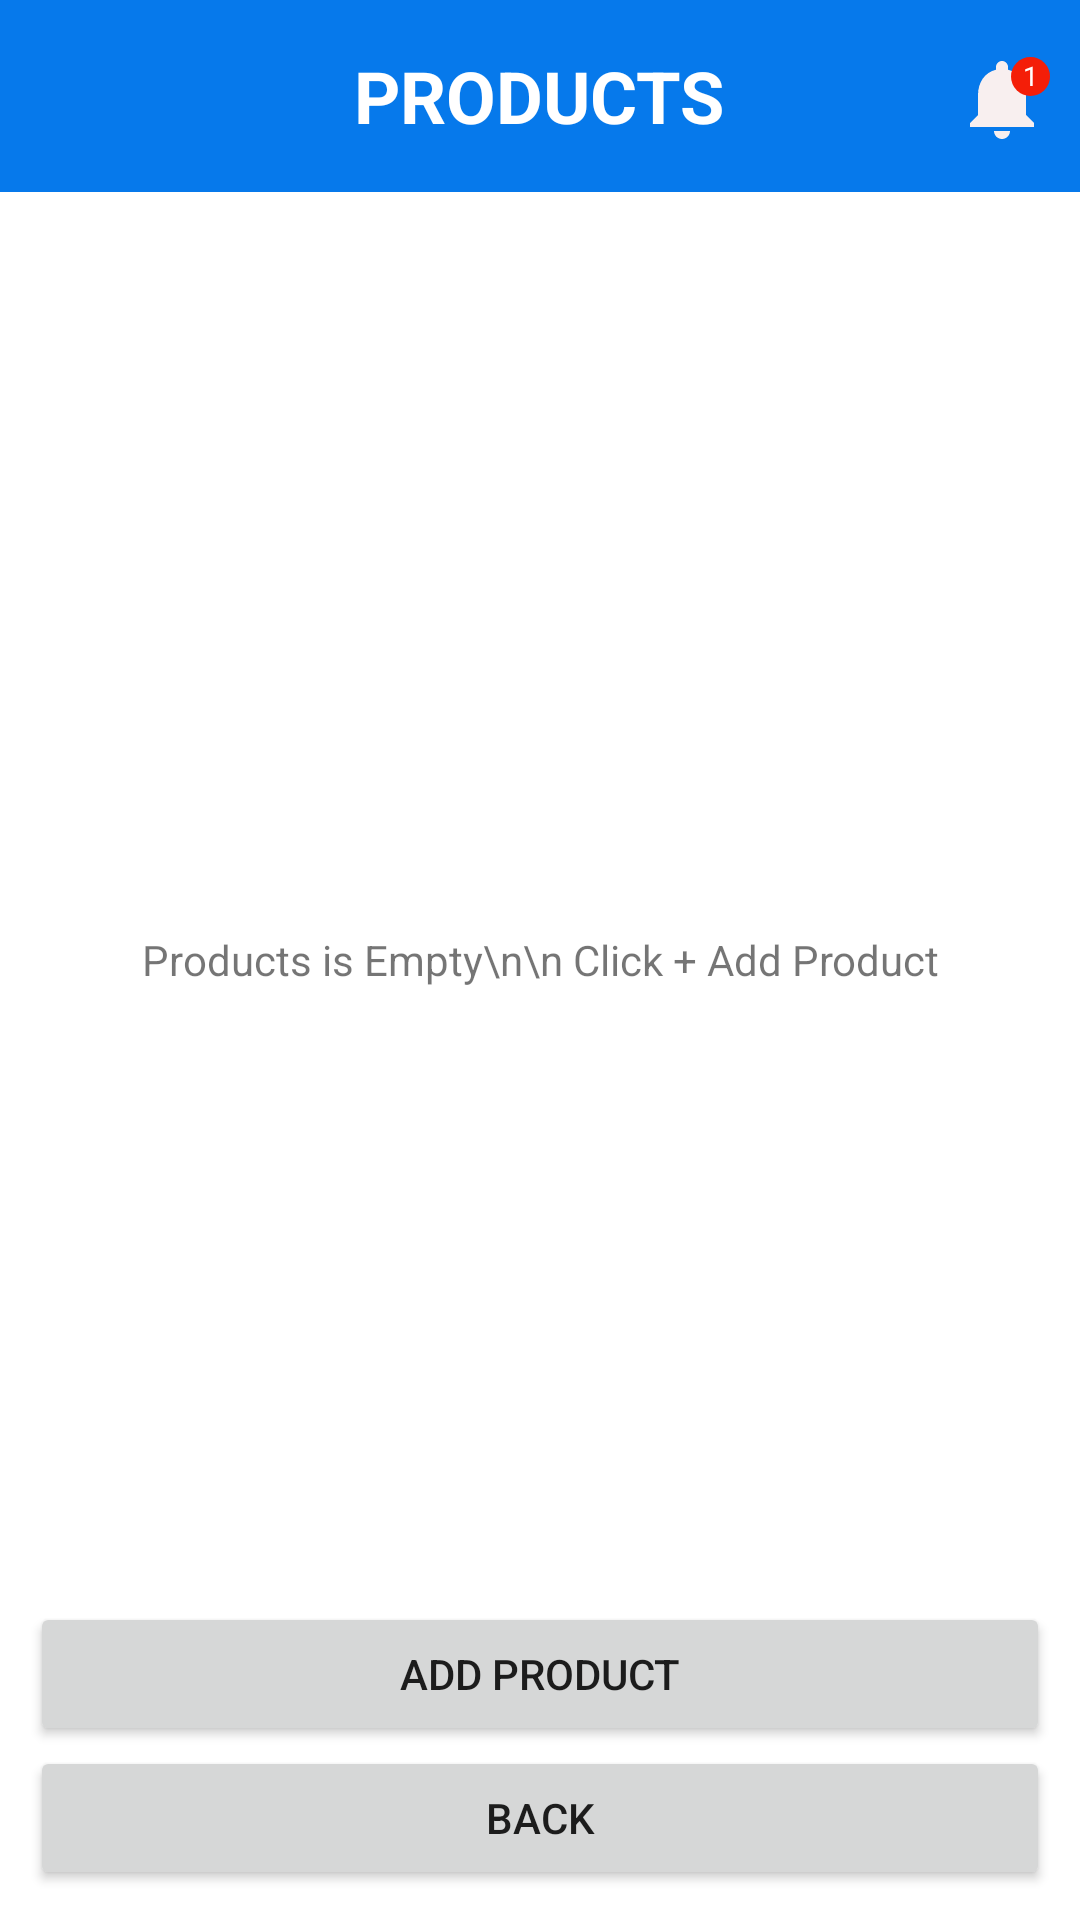

Point at icon controls on the screen. Image size 1080 × 1920, points as (x,y).
notifications: (1010,98)
